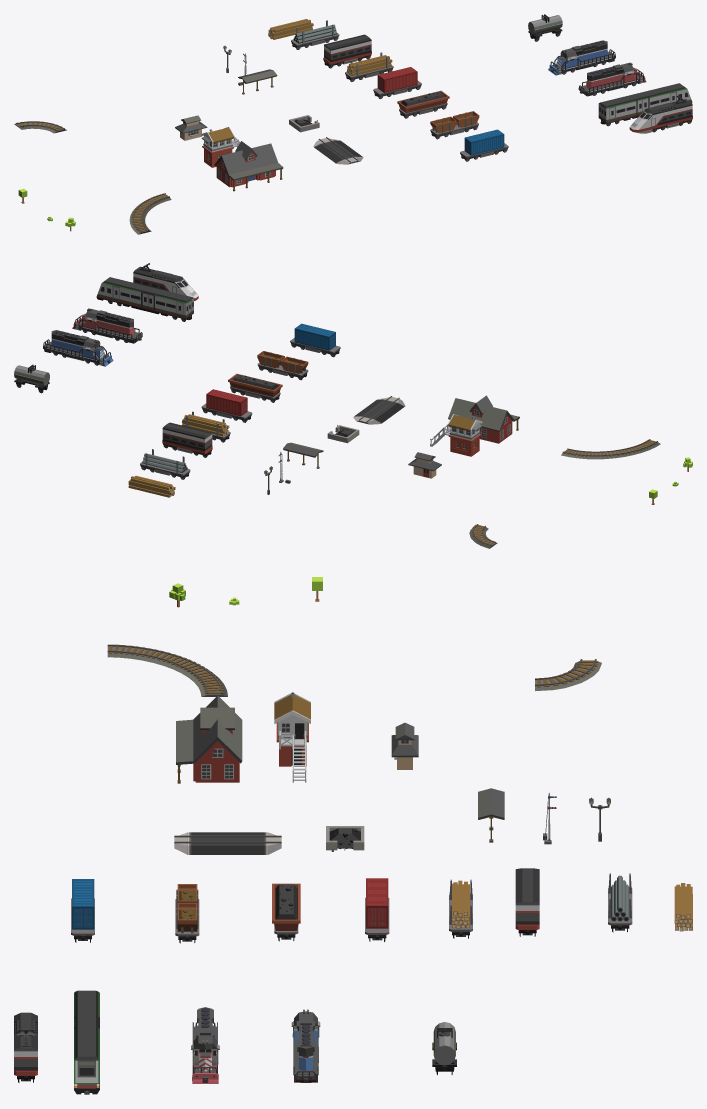
The model's file is Trains_subset.FBX.
The picture shows the model from 3 angles, top to bottom: view 1: azimuth 30°, elevation 25°; view 2: azimuth 150°, elevation 25°; view 3: azimuth 270°, elevation 25°; orthographic projection. The views are drawn at different scales.
Visible parts, largest first — view 1: SM_Bld_Station_01 (1), SM_Veh_Metro_01, SM_Veh_Bullet_01, SM_Veh_Freight_01 (1), SM_Veh_Freight_02, SM_Veh_Bullet_Carriage_03, SM_Veh_Carriage_Container_02, SM_Veh_Carriage_Container_01, SM_Bld_Signal_Tower_03, SM_Veh_Carriage_Coal_01 (1), SM_Veh_Carriage_Dirt_02, SM_Veh_Carriage_Logs_01 (+9 smaller); view 2: SM_Veh_Metro_01, SM_Bld_Station_01 (1), SM_Veh_Freight_01 (1), SM_Veh_Freight_02, SM_Bld_Signal_Tower_03, SM_Veh_Bullet_Carriage_03, SM_Veh_Carriage_Container_01, SM_Veh_Carriage_Container_02, SM_Veh_Bullet_01, SM_Veh_Carriage_Coal_01 (1), SM_Veh_Carriage_Dirt_02, SM_Env_Track_RoadCrossing_02 (+6 smaller); view 3: SM_Bld_Station_01 (1), SM_Veh_Metro_01, SM_Bld_Signal_Tower_03, SM_Env_Track_RoadCrossing_02, SM_Env_Track_Corner_02, SM_Veh_Freight_02, SM_Veh_Freight_01 (1), SM_Veh_Bullet_Carriage_03, SM_Veh_Bullet_01, SM_Veh_Carriage_Coal_01 (1), SM_Veh_Carriage_Container_01, SM_Veh_Carriage_Container_02 (+9 smaller).
Boxes of the visible parts, x1,y1,x2,y2 form: SM_Bld_Station_01 (1): (214, 141, 283, 191); SM_Veh_Metro_01: (598, 83, 692, 126); SM_Veh_Bullet_01: (629, 95, 692, 133); SM_Veh_Freight_01 (1): (548, 40, 615, 75); SM_Veh_Freight_02: (578, 62, 646, 96); SM_Veh_Bullet_Carriage_03: (323, 34, 371, 68); SM_Veh_Carriage_Container_02: (460, 129, 508, 161); SM_Veh_Carriage_Container_01: (373, 67, 421, 98); SM_Bld_Signal_Tower_03: (201, 126, 240, 167); SM_Veh_Carriage_Coal_01 (1): (397, 90, 449, 118); SM_Veh_Carriage_Dirt_02: (430, 111, 479, 139); SM_Veh_Carriage_Logs_01: (345, 52, 393, 81); SM_Veh_Metro_01: (96, 277, 193, 321); SM_Bld_Station_01 (1): (448, 395, 519, 443); SM_Veh_Freight_01 (1): (43, 330, 113, 366); SM_Veh_Freight_02: (72, 308, 142, 343); SM_Bld_Signal_Tower_03: (430, 414, 482, 456); SM_Veh_Bullet_Carriage_03: (162, 422, 212, 457); SM_Veh_Carriage_Container_01: (201, 389, 252, 422); SM_Veh_Carriage_Container_02: (290, 323, 340, 357); SM_Veh_Bullet_01: (133, 263, 198, 300); SM_Veh_Carriage_Coal_01 (1): (228, 373, 282, 402); SM_Veh_Carriage_Dirt_02: (257, 351, 308, 380); SM_Env_Track_RoadCrossing_02: (353, 396, 405, 424); SM_Bld_Station_01 (1): (176, 695, 242, 783); SM_Veh_Metro_01: (74, 990, 99, 1094); SM_Bld_Signal_Tower_03: (274, 692, 310, 782); SM_Env_Track_RoadCrossing_02: (174, 832, 281, 854); SM_Env_Track_Corner_02: (107, 644, 227, 696); SM_Veh_Freight_02: (191, 1007, 219, 1083); SM_Veh_Freight_01 (1): (291, 1009, 320, 1082); SM_Veh_Bullet_Carriage_03: (515, 868, 539, 936); SM_Veh_Bullet_01: (14, 1012, 37, 1082); SM_Veh_Carriage_Coal_01 (1): (272, 883, 300, 941); SM_Veh_Carriage_Container_01: (365, 878, 389, 941); SM_Veh_Carriage_Container_02: (71, 879, 94, 942).
Bounding box in the file's own units: 221871 × 12318 × 126657.
Materials: 3 (3 with a texture image).
